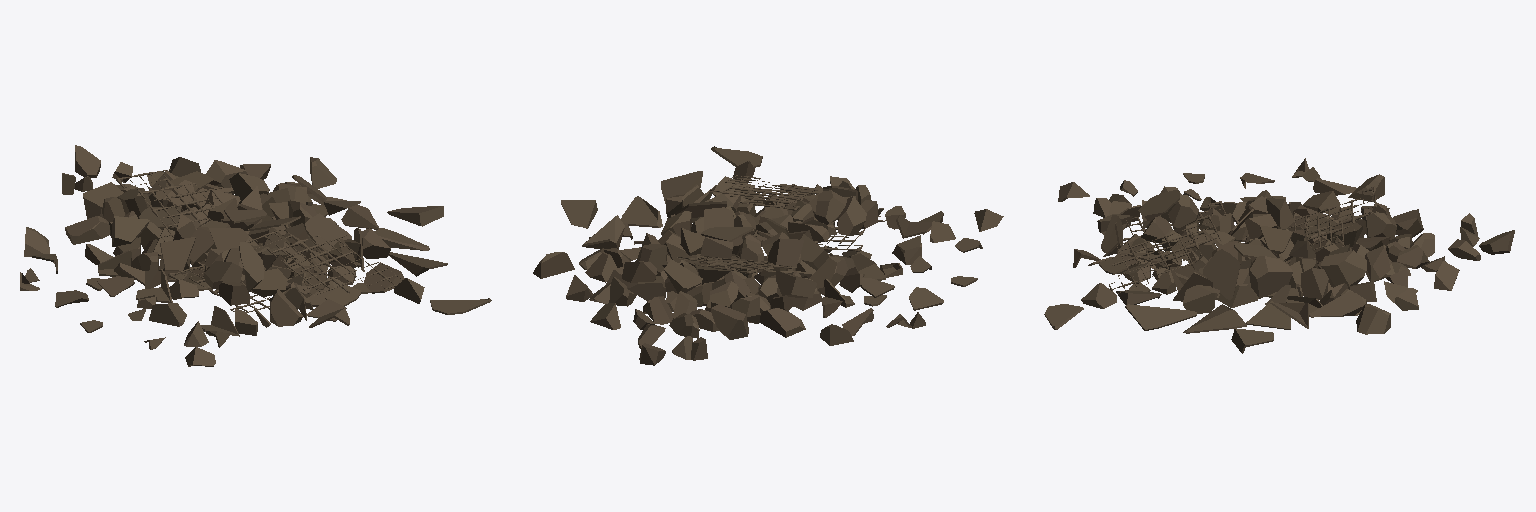
robot.urdf — box.SLDPRT:
<?xml version="1.0" encoding="utf-8"?>
<!-- This URDF was automatically created by SolidWorks to URDF Exporter! Originally created by [author] ([email redacted]) 
     Commit Version: 1.5.1-0-g916b5db  Build Version: 1.5.7152.31018
     For more information, please see http://wiki.ros.org/sw_urdf_exporter -->
<robot
  name="box.SLDPRT">
  <link
    name="box.SLDPRT">
    <inertial>
      <origin
        xyz="1.2996E-17 1.20353843572399E-16 0.16926"
        rpy="0 0 0" />
      <mass
        value="0" />
      <inertia
        ixx="1.73042"
        ixy="-1.2824E-17"
        ixz="-2.8299E-17"
        iyy="1.73042"
        iyz="2.85579897269348E-17"
        izz="1.0053" />
    </inertial>
    <visual>
      <origin
        xyz="0 0 0"
        rpy="1.5707963267949 0 0" />
      <geometry>
        <mesh
          filename="models/meshes/dirt/dirt.obj" scale="0.001 0.001 0.001"/>
      </geometry>
      <material
        name="">
        <color
          rgba="0.39 0.34 0.28 1" />
      </material>
    </visual>
  </link>
</robot>

--- Facts derived from the render (not from the file) ---
Views: 3 orthographic renders of the robot side by side, from view 1: azimuth 30°, elevation 25°; view 2: azimuth 150°, elevation 25°; view 3: azimuth 270°, elevation 25°.
Robot: box.SLDPRT — 1 links, 0 joints (none); root link box.SLDPRT; default pose: all joints at 0.
Links seen in each view (by area): view 1: box.SLDPRT; view 2: box.SLDPRT; view 3: box.SLDPRT.
Link boxes in pixels (left/top/right/bottom): box.SLDPRT: left=20, top=145, right=491, bottom=366; box.SLDPRT: left=533, top=146, right=1003, bottom=365; box.SLDPRT: left=1044, top=158, right=1514, bottom=353.
Bounding box of the posed robot: 0.9865 × 1.07 × 0.136 m (x, y, z).
1 mesh visuals loaded from 1 distinct referenced files (1 OBJ).